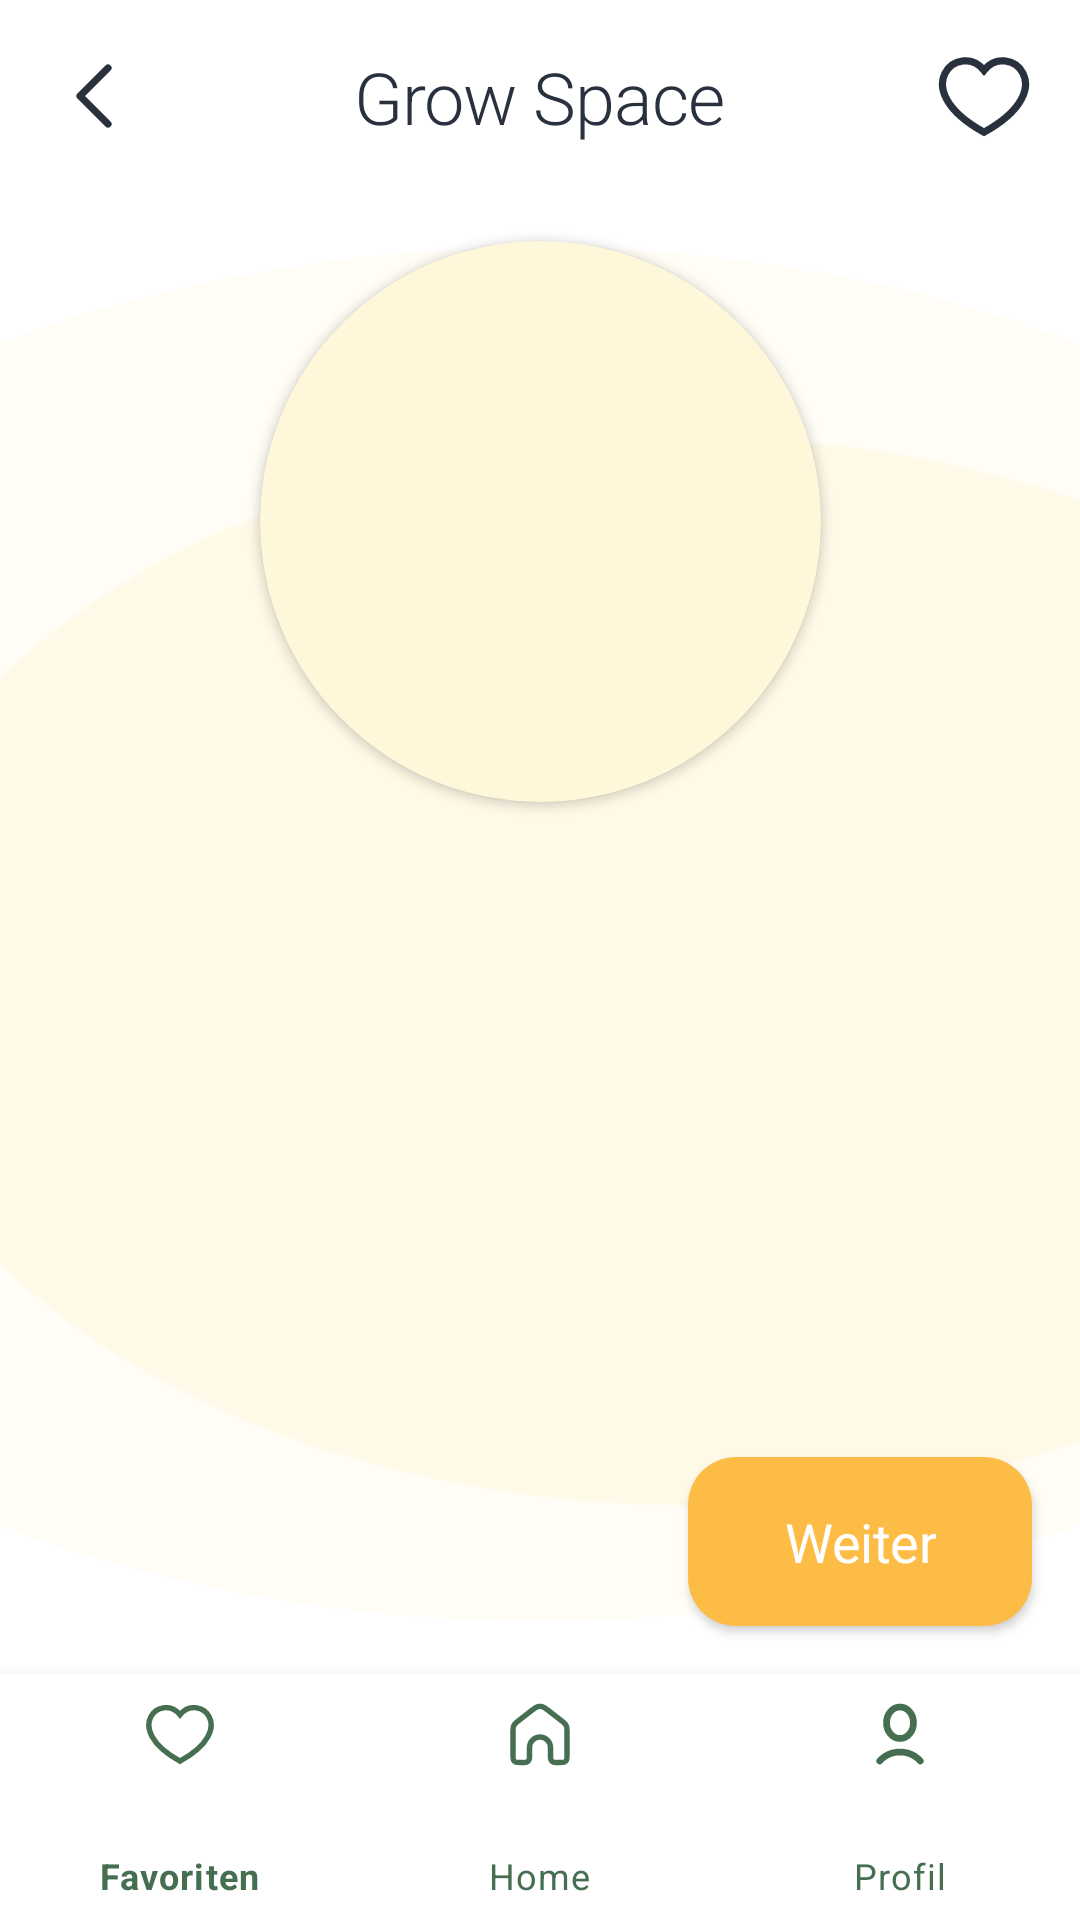

Named icons in this screenshot (1080 x 1920) and their centers, point (x, y):
heart: point (984, 96)
left: point (94, 96)
